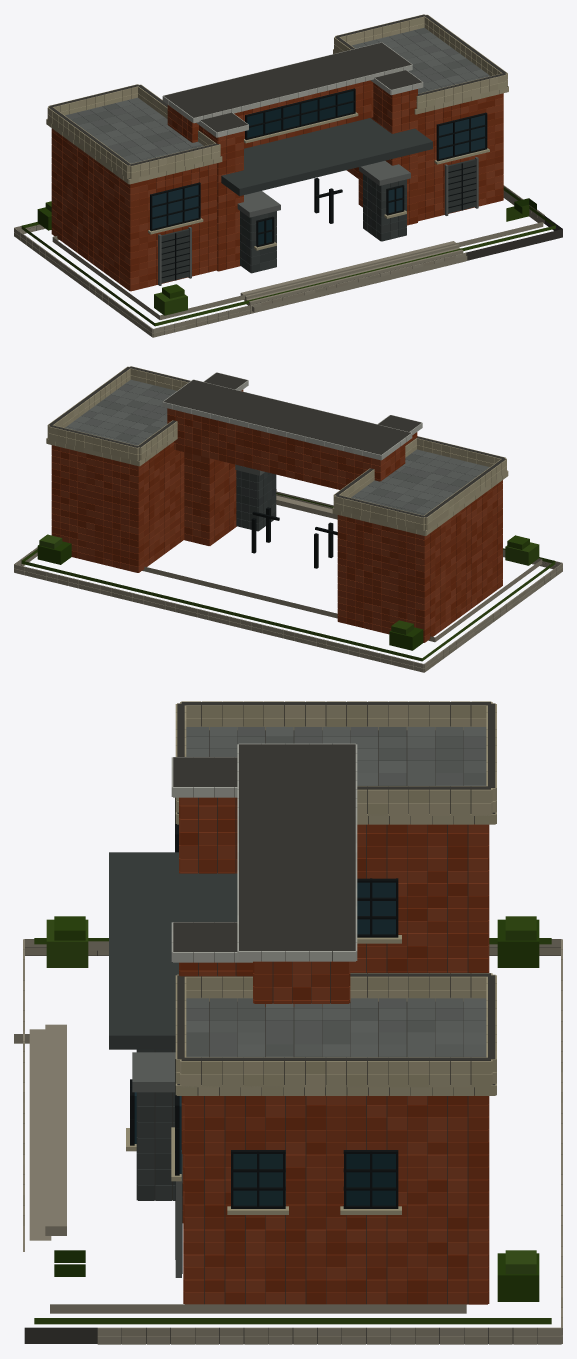
File: SM_StreetFrontage_081.fbx
3 renders of one model, top to bottom at view 1: azimuth 30°, elevation 25°; view 2: azimuth 150°, elevation 25°; view 3: azimuth 270°, elevation 25°, orthographic. The views are drawn at different scales.
Parts seen in each view (by area): view 1: SM_StreetFrontage_081; view 2: SM_StreetFrontage_081; view 3: SM_StreetFrontage_081.
Boxes of the visible parts, x1,y1,x2,y2 form: SM_StreetFrontage_081: (14, 14, 562, 337); SM_StreetFrontage_081: (14, 366, 562, 672); SM_StreetFrontage_081: (14, 701, 562, 1344).
Size of the model in its own units: 32 by 19.06 by 11.58.
